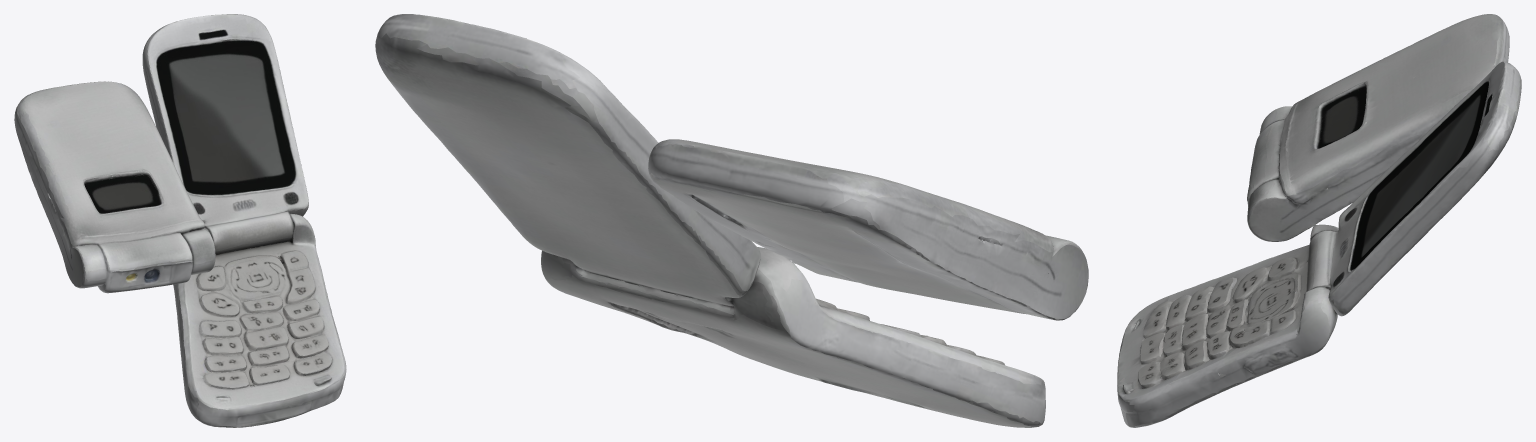
The model's file is parts.glb.
3 views of the same model, side by side, from view 1: azimuth 30°, elevation 25°; view 2: azimuth 150°, elevation 25°; view 3: azimuth 270°, elevation 25° (orthographic). The views are drawn at different scales.
Bounding box in the file's own units: 0.095 × 0.0939 × 0.0958.
Materials: 3 (3 with a texture image).
